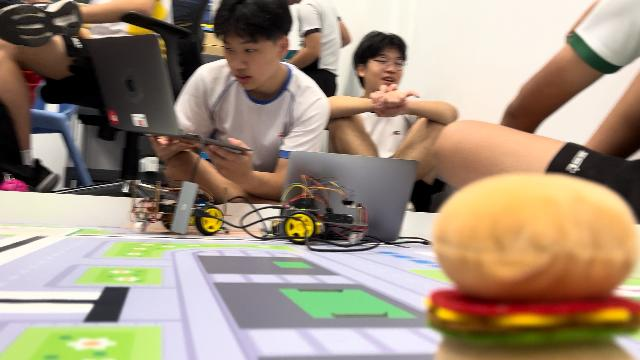burger: (426, 172, 640, 360)
